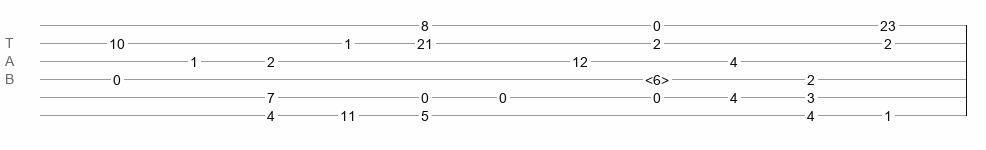0: (113, 72, 121, 82), (421, 90, 429, 100), (499, 90, 507, 100), (653, 90, 661, 100), (653, 18, 661, 28)
1: (190, 54, 198, 64), (344, 36, 352, 46), (884, 108, 892, 118)
10: (109, 36, 125, 46)
11: (340, 108, 356, 118)
12: (572, 54, 588, 64)
2: (267, 54, 275, 64), (653, 36, 661, 46), (807, 72, 815, 82), (884, 36, 892, 46)
21: (417, 36, 433, 46)
23: (880, 18, 896, 28)
3: (807, 90, 815, 100)
4: (267, 108, 275, 118), (730, 54, 738, 64), (730, 90, 738, 100), (807, 108, 815, 118)
5: (421, 108, 429, 118)
7: (267, 90, 275, 100)
8: (421, 18, 429, 28)
harmonic: (645, 72, 669, 82)
